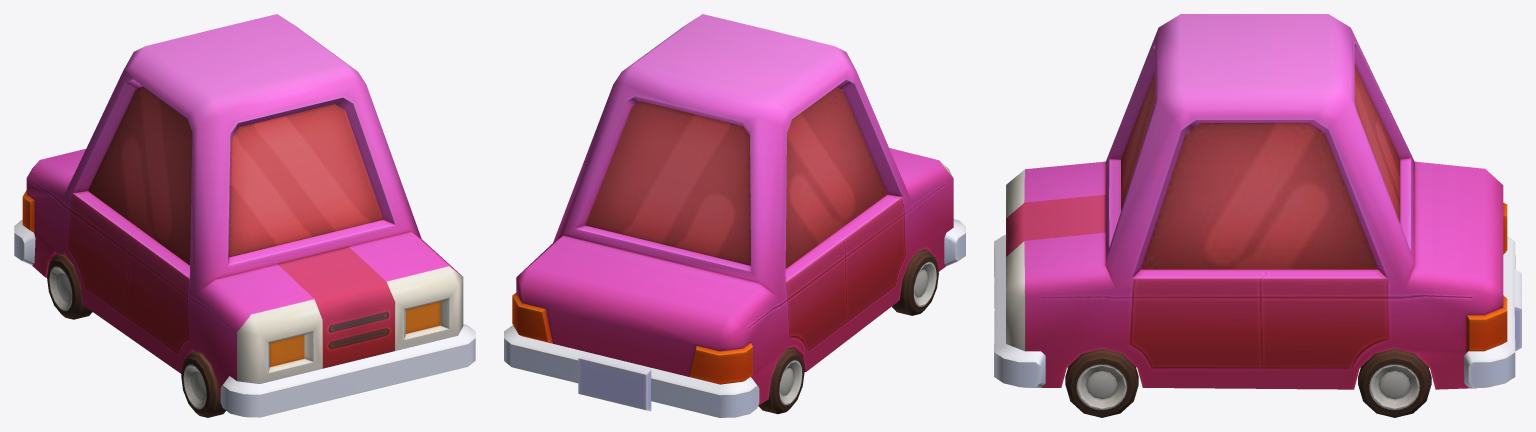
Rendered from Car01.fbx.
The picture shows the model from 3 angles, left to right: view 1: azimuth 30°, elevation 25°; view 2: azimuth 150°, elevation 25°; view 3: azimuth 270°, elevation 25°; orthographic projection. The views are drawn at different scales.
Visible parts, largest first — view 1: Car01; view 2: Car01; view 3: Car01.
Boxes of the visible parts, box(x1,y1,x2,y2) form: Car01: box(14, 14, 475, 417); Car01: box(504, 14, 965, 417); Car01: box(994, 14, 1521, 417).
Bounding box in the file's own units: 147 × 161 × 251.
